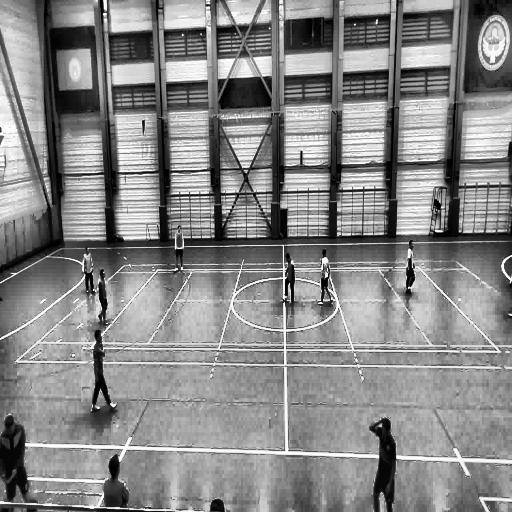ball: (281, 294, 288, 308)
player: (367, 416, 397, 510), (0, 416, 30, 507), (92, 329, 118, 412), (317, 248, 332, 305), (282, 251, 294, 305), (82, 246, 95, 294), (98, 269, 108, 326), (404, 240, 414, 296), (174, 225, 184, 272)
